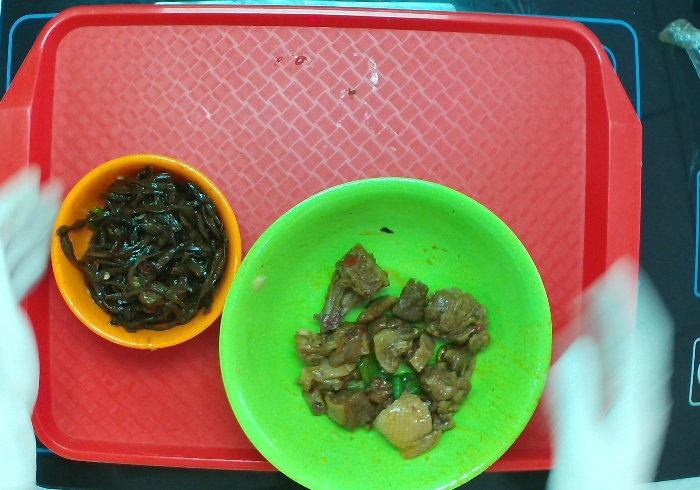YKMZ-Ju_Se_Yuan_Wan: (49, 151, 245, 352)
YKMZ-Lv_Se_Tang_Wan: (217, 173, 554, 490)
